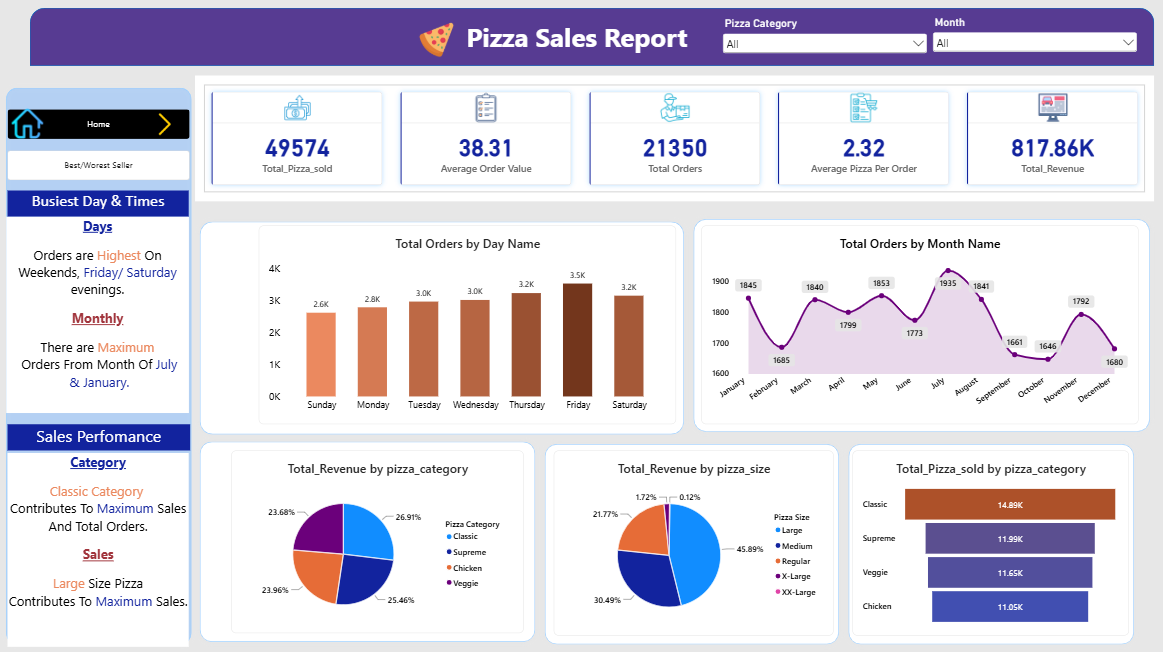

What the dashboard file says about the page in this screenshot:
{"tool":"powerbi","page":{"name":"Home","canvas":[1920,1080],"ordinal":0},"visuals":[{"type":"cardVisual","fields":{"Data":["pizza_sales.Total_Pizza_sold","pizza_sales.Averege Order Value","pizza_sales.Total Orders","pizza_sales.Average Pizza Per Order","pizza_sales.Total_Revenue"]},"box":[321.1,127.6,1580.8,207.9],"z":0},{"type":"shape","box":[49.9,17.3,1851.1,95.4],"z":1000},{"type":"textbox","box":[629.1,35.2,640.1,63.8],"z":2000},{"type":"shape","box":[321.1,360.2,813,366.4],"z":3000},{"type":"columnChart","fields":{"Category":["pizza_sales.Day Name"],"Y":["pizza_sales.Total Orders"]},"box":[427,375,687.1,327.3],"z":4000},{"type":"image","box":[689.3,30.3,58.5,75.9],"z":5000},{"type":"shape","box":[1133.6,355.5,767.3,366.3],"z":6000},{"type":"areaChart","fields":{"Category":["pizza_sales.Month Name"],"Y":["pizza_sales.Total Orders"]},"box":[1155.3,375,719.6,327.3],"z":7000},{"type":"shape","box":[321.1,722.5,568.1,345.8],"z":8000},{"type":"pieChart","fields":{"Category":["pizza_sales.pizza_category"],"Y":["pizza_sales.Total_Revenue"]},"box":[380.8,745.1,481.6,300.5],"z":9000},{"type":"shape","box":[889.2,726.6,500.2,345.8],"z":10000},{"type":"shape","box":[1389.4,726.6,485.8,345.8],"z":11000},{"type":"pieChart","fields":{"Category":["pizza_sales.pizza_size"],"Y":["pizza_sales.Total_Revenue"]},"box":[911.8,745.1,461.1,304.6],"z":12000},{"type":"funnel","fields":{"Category":["pizza_sales.pizza_category"],"Y":["pizza_sales.Total_Pizza_sold"]},"box":[1403.8,745.1,454.9,304.6],"z":13000},{"type":"shape","box":[2.1,140,321.1,932.4],"z":14000},{"type":"textbox","box":[12.3,317,298.5,43.2],"z":15000},{"type":"textbox","box":[10.3,360.2,300.5,323.2],"z":16000},{"type":"textbox","box":[12.3,701.9,300.5,43.2],"z":17000},{"type":"textbox","box":[12.3,749.2,298.5,319],"z":18000},{"type":"slicer","fields":{"Values":["pizza_sales.pizza_category"]},"box":[1185.6,30.9,345.8,76.2],"z":19000},{"type":"slicer","fields":{"Values":["pizza_sales.Month Name"]},"box":[1531.4,28.8,345.8,76.2],"z":20000},{"type":"pageNavigator","box":[12.3,183.2,300.5,49.4],"z":21000},{"type":"pageNavigator","box":[12.3,251.1,300.5,49.4],"z":22000},{"type":"image","box":[205.8,189.4,131.7,37],"z":23000},{"type":"image","box":[0,181.1,90.6,51.5],"z":24000}]}

Visuals, with their boxes in screenshot pixels (x1, y1, x2, y2), scaled from the page's 1920x1080 canvas onto the 1163x652 screenshot:
cardVisual - pizza_sales.Total_Pizza_sold x pizza_sales.Averege Order Value: bbox=(194, 77, 1152, 203)
shape: bbox=(30, 10, 1151, 68)
textbox: bbox=(381, 21, 769, 60)
shape: bbox=(194, 217, 687, 439)
columnChart - pizza_sales.Day Name x pizza_sales.Total Orders: bbox=(259, 226, 675, 424)
image: bbox=(418, 18, 453, 64)
shape: bbox=(687, 215, 1151, 436)
areaChart - pizza_sales.Month Name x pizza_sales.Total Orders: bbox=(700, 226, 1136, 424)
shape: bbox=(194, 436, 539, 645)
pieChart - pizza_sales.pizza_category x pizza_sales.Total_Revenue: bbox=(231, 450, 522, 631)
shape: bbox=(539, 439, 842, 647)
shape: bbox=(842, 439, 1136, 647)
pieChart - pizza_sales.pizza_size x pizza_sales.Total_Revenue: bbox=(552, 450, 832, 634)
funnel - pizza_sales.pizza_category x pizza_sales.Total_Pizza_sold: bbox=(850, 450, 1126, 634)
shape: bbox=(1, 85, 196, 647)
textbox: bbox=(7, 191, 188, 217)
textbox: bbox=(6, 217, 188, 413)
textbox: bbox=(7, 424, 189, 450)
textbox: bbox=(7, 452, 188, 645)
slicer - pizza_sales.pizza_category: bbox=(718, 19, 928, 65)
slicer - pizza_sales.Month Name: bbox=(928, 17, 1137, 63)
pageNavigator: bbox=(7, 111, 189, 140)
pageNavigator: bbox=(7, 152, 189, 181)
image: bbox=(125, 114, 204, 137)
image: bbox=(0, 109, 55, 140)
